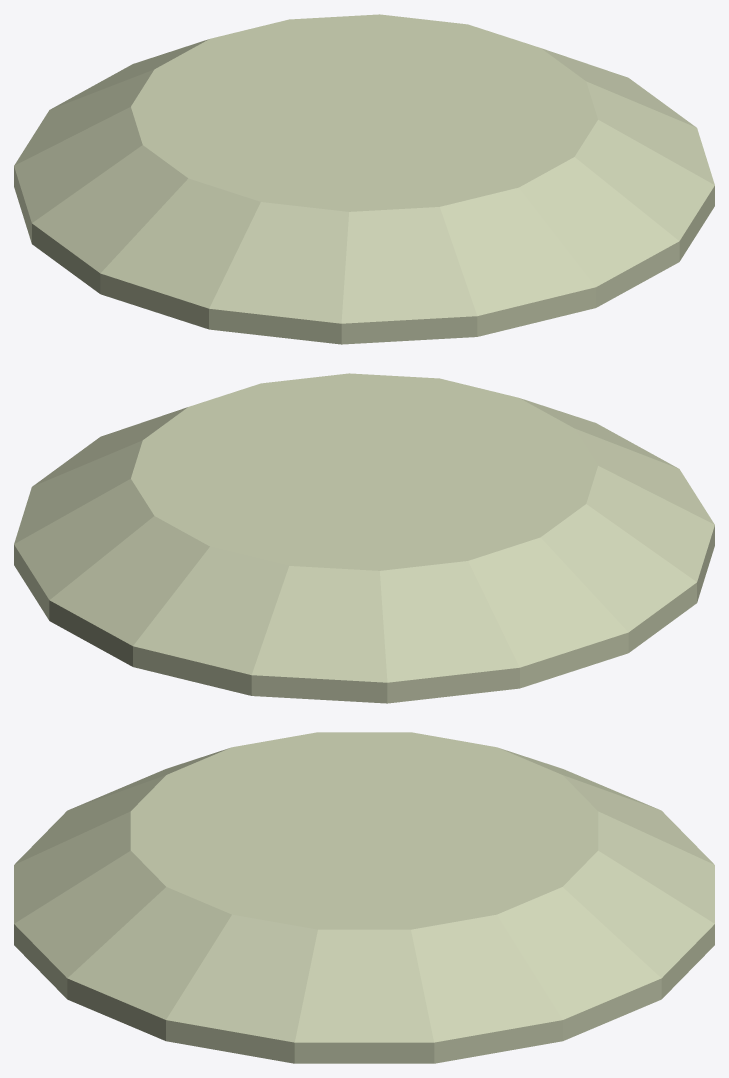
File: Andromeda_Decoupler_1_Collider.obj
The picture shows the model from 3 angles, top to bottom: view 1: azimuth 30°, elevation 25°; view 2: azimuth 150°, elevation 25°; view 3: azimuth 270°, elevation 25°; orthographic projection.
Visible parts, largest first — view 1: Andromeda_Decoupler_1_Collider; view 2: Andromeda_Decoupler_1_Collider; view 3: Andromeda_Decoupler_1_Collider.
Part boxes in pixels (box(x1,y1,x2,y2)): Andromeda_Decoupler_1_Collider: box(14, 14, 714, 344); Andromeda_Decoupler_1_Collider: box(14, 373, 714, 703); Andromeda_Decoupler_1_Collider: box(14, 732, 714, 1063).
Bounding box in the file's own units: 0.9375 × 0.125 × 0.9375.
